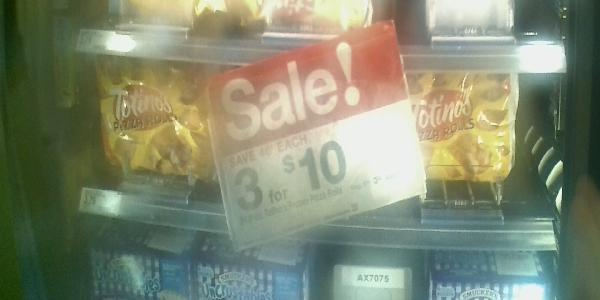icecream: (94, 50, 235, 192), (364, 67, 526, 187)
